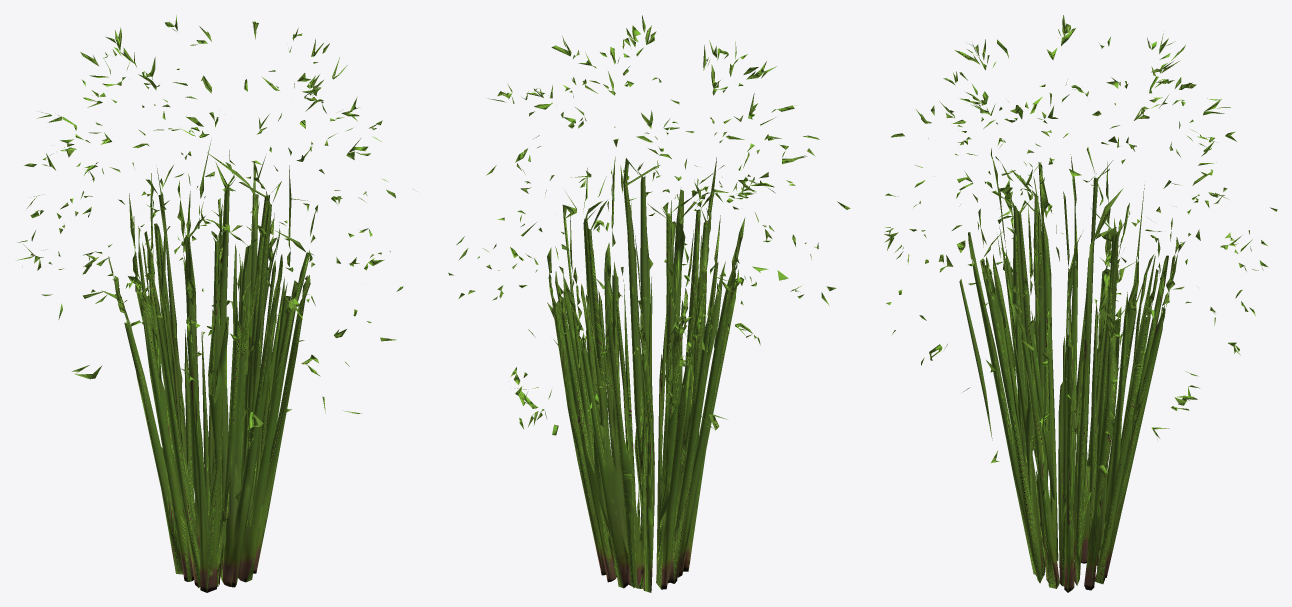
The model's file is bamboo-clump-lod.glb.
3 renders of one model, left to right at view 1: azimuth 30°, elevation 25°; view 2: azimuth 150°, elevation 25°; view 3: azimuth 270°, elevation 25°, orthographic. The views are drawn at different scales.
Parts seen in each view (by area): view 1: world; view 2: world; view 3: world.
Boxes of the visible parts, box(x1,y1,x2,y2) form: world: box(17, 15, 413, 592); world: box(448, 15, 850, 592); world: box(884, 15, 1277, 592).
Size of the model in its own units: 0.7092 by 0.9992 by 0.6812.
1 material, 1 textured.
